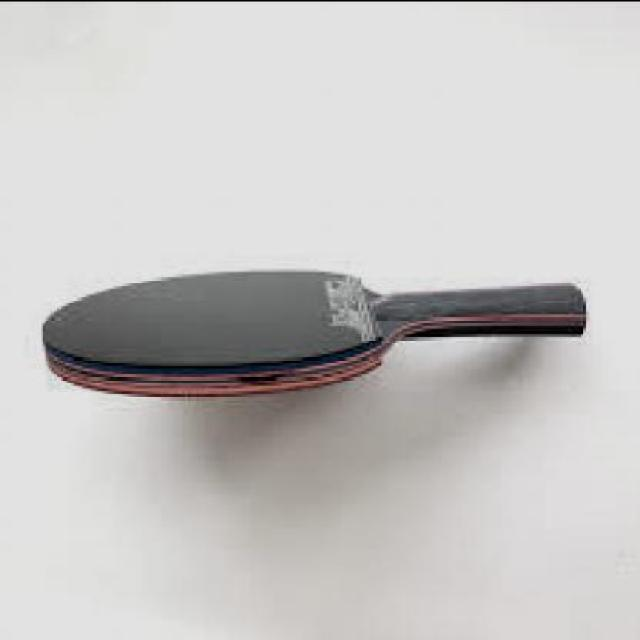table_tennis_racket: (40, 261, 392, 397)
